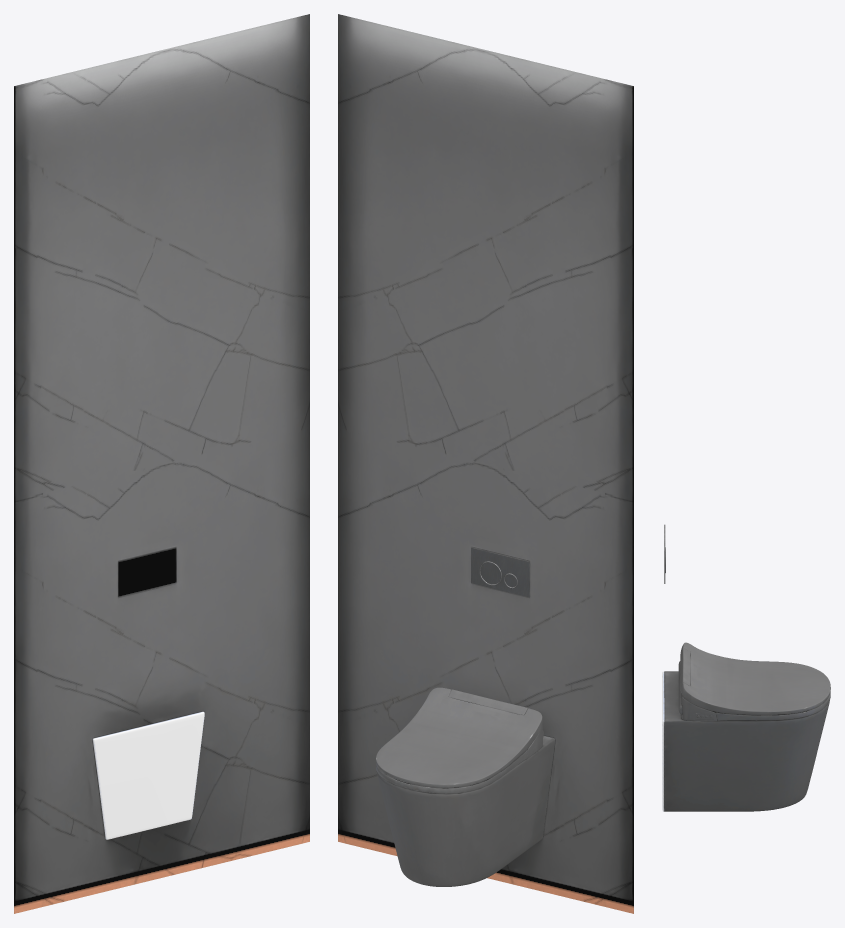
The model's file is E_Clenz_WC_final.glb.
The picture shows the model from 3 angles, left to right: view 1: azimuth 30°, elevation 25°; view 2: azimuth 150°, elevation 25°; view 3: azimuth 270°, elevation 25°; orthographic projection. The views are drawn at different scales.
Visible parts, largest first — view 1: E_Clenz_WC_final; view 2: E_Clenz_WC_final; view 3: E_Clenz_WC_final.
Part boxes in pixels (<box>): E_Clenz_WC_final: <box>14,14,309,913</box>; E_Clenz_WC_final: <box>338,14,633,913</box>; E_Clenz_WC_final: <box>662,524,830,811</box>.
Bounding box in the file's own units: 3.68 × 9.85 × 1.97.
1 material, 1 textured.
